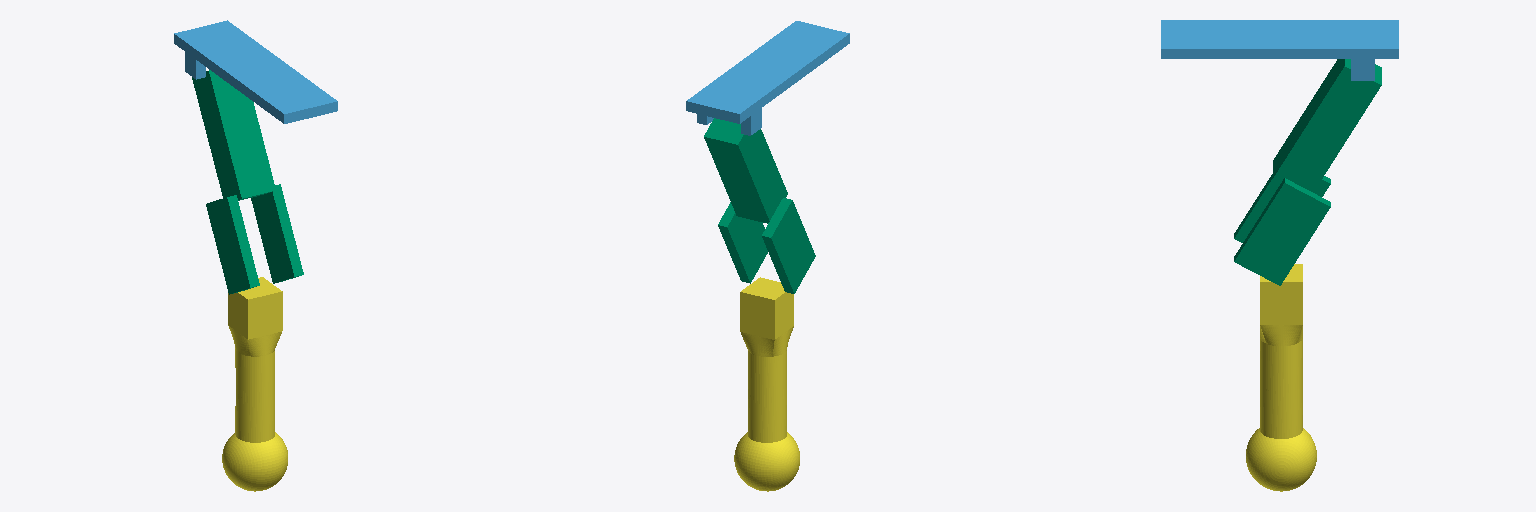
robot.urdf — robot:
<?xml version="1.0"?>
<robot name="robot">

  <!-- need but don't ues-->
  <link name="base_link"/>

<!-- mesh file fath = package://jumping_robot/mesh -->
<!-- package path = package://jumping_robot/mesh -->

  <joint name="base_to_hip" type="fixed">
    <parent link="base_link"/>
    <child link="hip_link"/>
    <origin xyz="0 0 0" rpy="0 0 0"/>
  </joint>

  <link name="hip_link">
    <inertial>
      <origin xyz="-3.7550927147833557e-10 0.004666666331953468 -0.006000000176628422" rpy="0 0 0"/>
      <mass value="0.9420000170314314"/>
      <inertia ixx="0.003243" iyy="0.000286" izz="0.003483" ixy="-0.0" iyz="6.2e-05" ixz="-0.0"/>
    </inertial>
    <visual>
      <origin xyz="0 0 0" rpy="0 0 0"/>
      <geometry>
        <mesh filename="package://jumping_robot/mesh/hip_link.stl" scale="0.001 0.001 0.001"/>
      </geometry>
    </visual>
    <collision>
      <origin xyz="0 0 0" rpy="0 0 0"/>
      <geometry>
        <mesh filename="package://jumping_robot/mesh/hip_link.stl" scale="0.001 0.001 0.001"/>
      </geometry>
    </collision>
  </link>

  <joint name = "hip_to_thigh" type="revolute">
    <parent link="hip_link"/>
    <child link="thigh_link"/>
    <origin xyz="0 0.07 -0.03" rpy="-0.523599 0 0"/>
    <axis xyz="1 0 0"/>
    <limit effort="1000" lower="-1.04719732679" upper="0.523599" velocity="10"/>
    <!-- <dynamics damping="2.0" friction="1.0"/> -->
  </joint>

  <link name="thigh_link">
    <inertial>
      <origin xyz="0.0 0.004121411947245925 -0.0921470131885182" rpy="0 0 0"/>
      <mass value="1.8213569999999997"/>
      <inertia ixx="0.005949" iyy="0.006108" izz="0.000751" ixy="-0.0" iyz="0.000491" ixz="-0.0"/>
    </inertial>
    <visual>
      <origin xyz="0 0 0" rpy="0 0 0"/>
      <geometry>
        <mesh filename="package://jumping_robot/mesh/thigh_link.stl" scale="0.001 0.001 0.001"/>
      </geometry>
    </visual>
    <collision>
      <origin xyz="0 0 0" rpy="0 0 0"/>
      <geometry>
        <mesh filename="package://jumping_robot/mesh/thigh_link.stl" scale="0.001 0.001 0.001"/>
      </geometry>
    </collision>
  </link>

 <joint name = "thigh_to_shin" type="revolute">
    <parent link="thigh_link"/>
    <child link="shin_link"/>
    <origin xyz="0 0.036 -0.2" rpy="0.523599 0 0"/>
    <axis xyz="1 0 0"/>
    <limit effort="1000" lower="-0.523599" upper="2.61799732679" velocity="10"/>
  </joint>

  <link name="shin_link">
    <inertial>
      <origin xyz="0.0 4.171802357206174e-18 -0.10999404803952129" rpy="0 0 0"/>
      <mass value="2.13922328936107"/>
      <inertia ixx="0.008081" iyy="0.008081" izz="0.000551" ixy="0.0" iyz="0.0" ixz="0.0"/>
    </inertial>
    <visual>
      <origin xyz="0 0 0" rpy="0 0 0"/>
      <geometry>
        <mesh filename="package://jumping_robot/mesh/shin_link.stl" scale="0.001 0.001 0.001"/>
      </geometry>
    </visual>
    <collision>
      <origin xyz="0 0 0" rpy="0 0 0"/>
      <geometry>
        <mesh filename="package://jumping_robot/mesh/shin_link.stl" scale="0.001 0.001 0.001"/>
      </geometry>
    </collision>
  </link>

  <ros2_control name="GazeboSystem" type="system">
    <hardware>
      <plugin>gazebo_ros2_control/GazeboSystem</plugin>
    </hardware>

    <joint name="hip_to_thigh">
      <command_interface name="position">
        <param name="min">-1.04719732679</param>
        <param name="max">0.523599</param>
      </command_interface>
      <command_interface name="effort">
        <param name="min">-1000</param>
        <param name="max">1000</param>
      </command_interface>
      <state_interface name="position"/>
      <state_interface name="velocity"/>
      <state_interface name="effort"/>
    </joint>

    <joint name="thigh_to_shin">
      <command_interface name="position">
        <param name="min">-0.523599</param>
        <param name="max">2.61799732679</param>
      </command_interface>
      <command_interface name="effort">
        <param name="min">-1000</param>
        <param name="max">1000</param>
      </command_interface>
      <state_interface name="position"/>
      <state_interface name="velocity"/>
      <state_interface name="effort"/>
    </joint>

  </ros2_control>

  <gazebo>
    <plugin filename="libgazebo_ros2_control.so" name="gazebo_ros2_control">
      <robot_sim_type>gazebo_ros2_control/GazeboSystem</robot_sim_type>
      <parameters>[local-path]/mingue/src/jumping_robot/config/controllers.yaml</parameters>
    </plugin>
  </gazebo>
  
</robot>

--- Facts derived from the render (not from the file) ---
3 views of the same robot in one strip: view 1: azimuth 30°, elevation 25°; view 2: azimuth 150°, elevation 25°; view 3: azimuth 270°, elevation 25° (orthographic).
Robot: robot — 4 links, 3 joints (2 revolute, 1 fixed); root link base_link; default pose: all joints at 0.
Visible links, largest first — view 1: thigh_link, shin_link, hip_link; view 2: thigh_link, shin_link, hip_link; view 3: thigh_link, shin_link, hip_link.
Link boxes in pixels (x1=…): thigh_link: x1=192, y1=70, x2=303, y2=294; shin_link: x1=222, y1=277, x2=287, y2=491; hip_link: x1=174, y1=20, x2=337, y2=123; thigh_link: x1=704, y1=118, x2=815, y2=293; shin_link: x1=734, y1=277, x2=799, y2=491; hip_link: x1=686, y1=21, x2=849, y2=135; thigh_link: x1=1234, y1=59, x2=1381, y2=285; shin_link: x1=1246, y1=264, x2=1316, y2=491; hip_link: x1=1161, y1=20, x2=1398, y2=80.
Bounding box of the posed robot: 0.06 × 0.2 × 0.4211 m (x, y, z).
3 mesh visuals loaded from 3 distinct referenced files (3 binary STL).